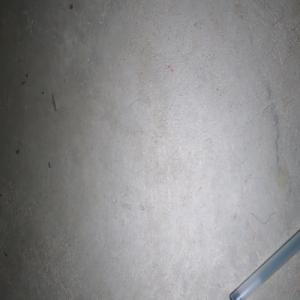Pen: (229, 229, 300, 300)
